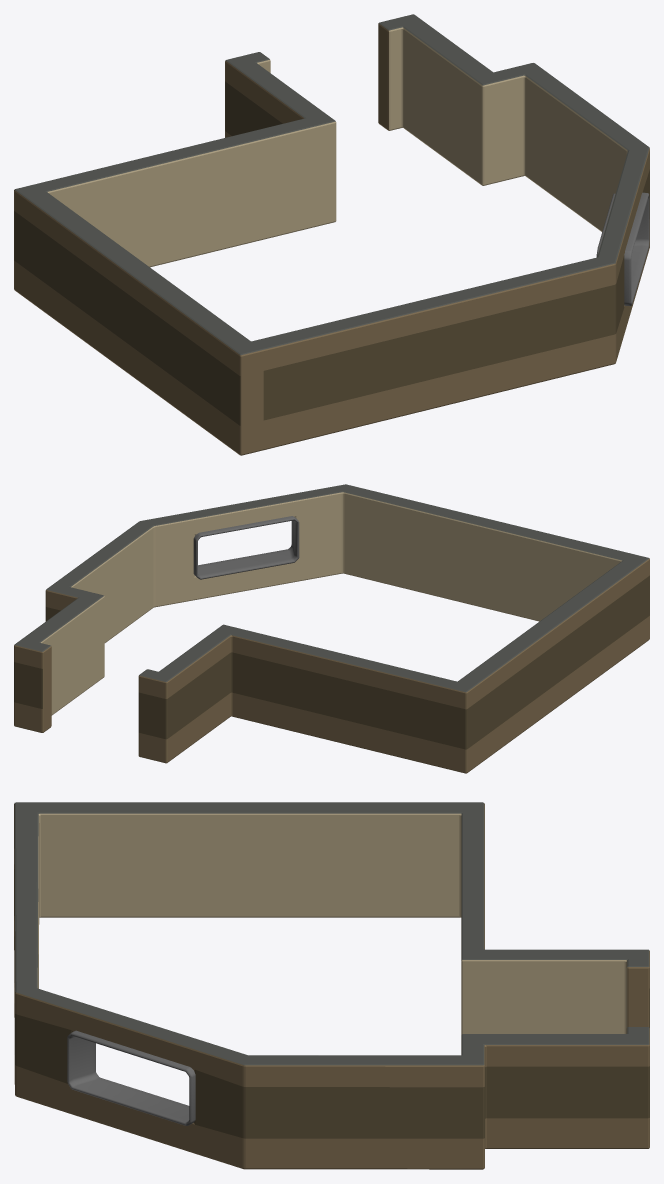
File: weapons_walls.fbx
3 renders of one model, top to bottom at view 1: azimuth 30°, elevation 25°; view 2: azimuth 150°, elevation 25°; view 3: azimuth 270°, elevation 25°, orthographic. The views are drawn at different scales.
Parts seen in each view (by area): view 1: Weapons; view 2: Weapons; view 3: Weapons.
Part boxes in pixels (x1,y1,x2,y2): Weapons: [14, 14, 649, 455]; Weapons: [14, 484, 649, 773]; Weapons: [14, 802, 649, 1169].
Bounding box in the file's own units: 1611 × 300 × 1644.
